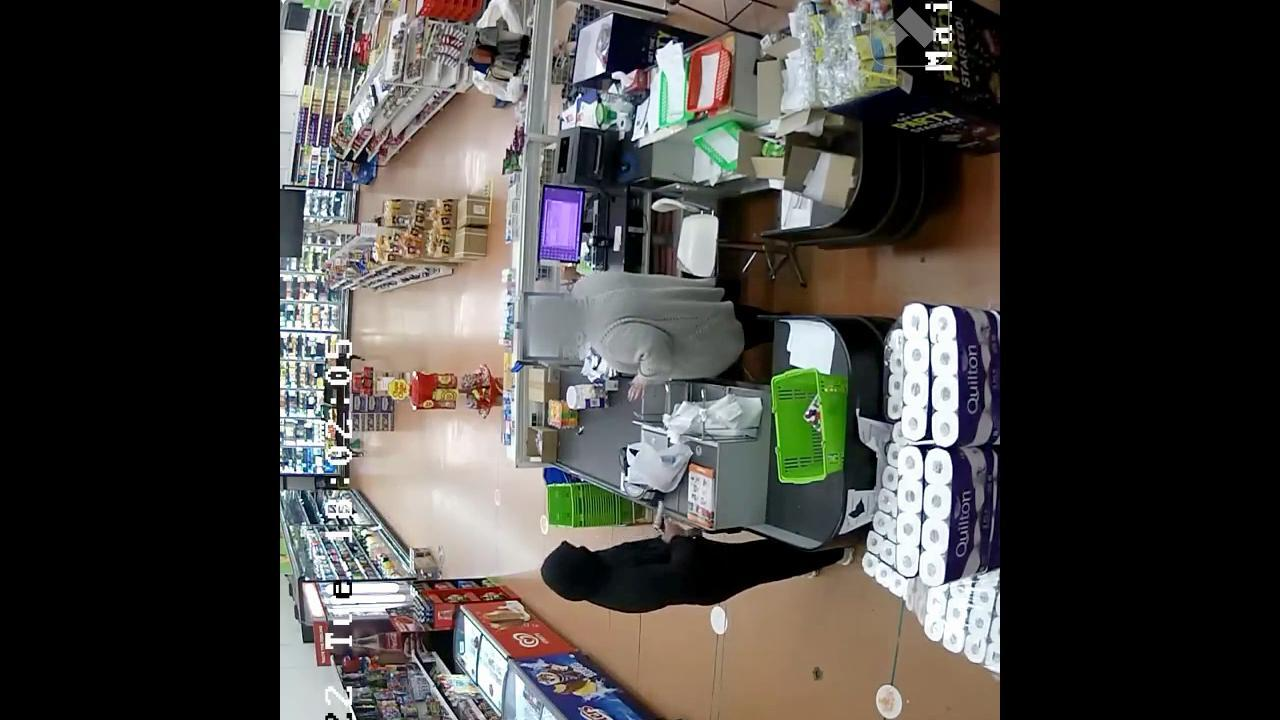gun: (646, 496, 682, 536)
